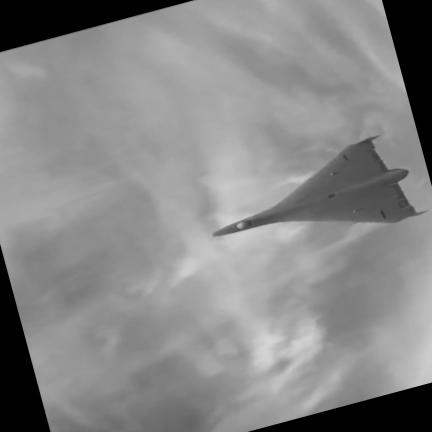Shahed: (213, 136, 425, 236)
